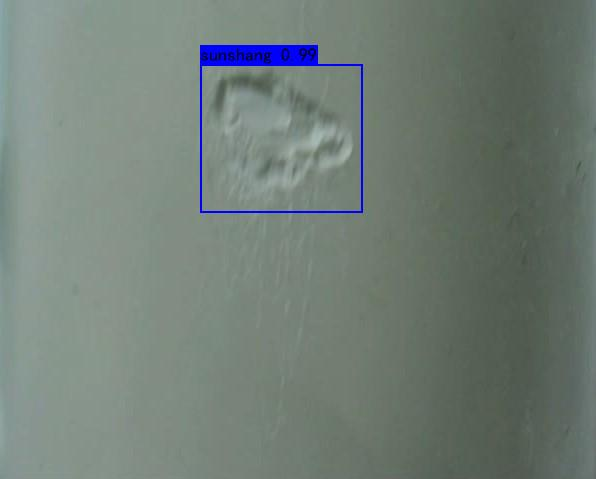sunshang: (196, 70, 358, 198)
